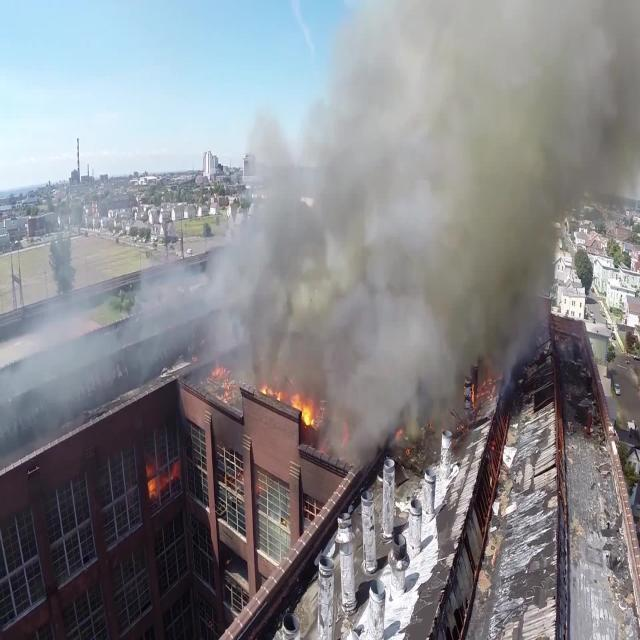Fire: (210, 357, 320, 438), (146, 432, 182, 494)
Smoke: (182, 2, 640, 470)
